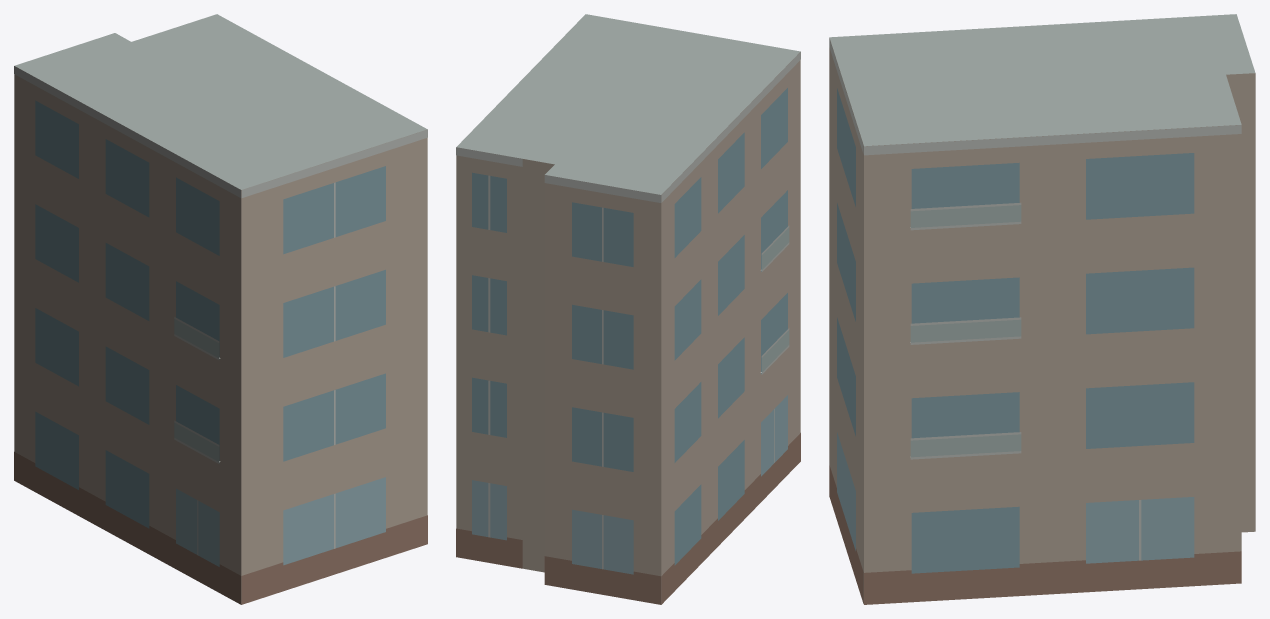
Rendered from residential-c8d2ab4e-ef97-46a0-9185-745b486f3dce.glb.
The picture shows the model from 3 angles, left to right: view 1: azimuth 30°, elevation 25°; view 2: azimuth 150°, elevation 25°; view 3: azimuth 270°, elevation 25°; orthographic projection. The views are drawn at different scales.
Parts seen in each view (by area): view 1: residential-c8d2ab4e-ef97-46a0-9185-745b486f3dce.tmp; view 2: residential-c8d2ab4e-ef97-46a0-9185-745b486f3dce.tmp; view 3: residential-c8d2ab4e-ef97-46a0-9185-745b486f3dce.tmp.
Boxes of the visible parts, left/top/right/bottom form: residential-c8d2ab4e-ef97-46a0-9185-745b486f3dce.tmp: left=14, top=14, right=427, bottom=604; residential-c8d2ab4e-ef97-46a0-9185-745b486f3dce.tmp: left=456, top=14, right=800, bottom=604; residential-c8d2ab4e-ef97-46a0-9185-745b486f3dce.tmp: left=829, top=14, right=1255, bottom=604.
Bounding box in the file's own units: 7.55 × 12.2 × 10.29.
